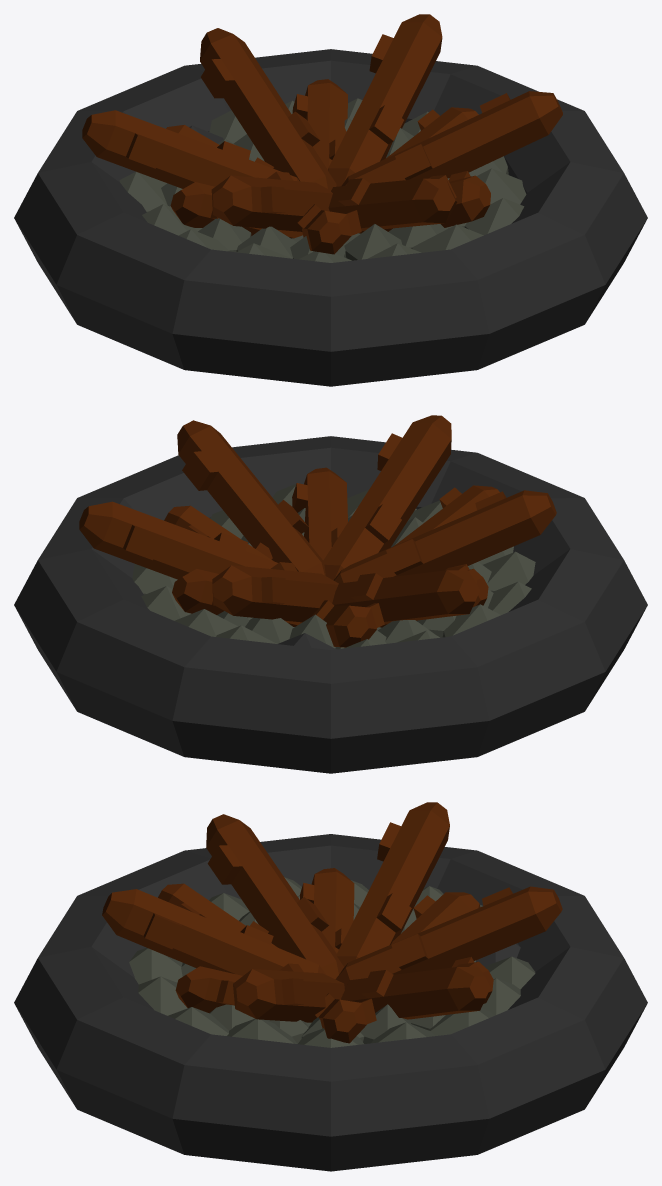
File: TestCCampFire.fbx
3 renders of one model, top to bottom at view 1: azimuth 30°, elevation 25°; view 2: azimuth 150°, elevation 25°; view 3: azimuth 270°, elevation 25°, orthographic.
Parts seen in each view (by area): view 1: RIng, wood.002, wood, wood.001, wood.005, wood.004, wood.003, wood.012, wood.006, wood.008, wood.007, wood.010 (+10 smaller); view 2: RIng, wood.004, wood, wood.003, wood.001, wood.005, wood.002, wood.007, wood.009, wood.006, wood.012, wood.010 (+9 smaller); view 3: RIng, wood.002, wood.004, wood.003, wood.005, wood.001, wood, wood.008, wood.007, wood.010, wood.009, wood.006 (+12 smaller).
Boxes of the visible parts, bbox=[...] form: RIng: bbox=[14, 49, 647, 386]; wood.002: bbox=[200, 28, 336, 190]; wood: bbox=[341, 91, 562, 186]; wood.001: bbox=[328, 14, 442, 186]; wood.005: bbox=[82, 110, 299, 188]; wood.004: bbox=[328, 175, 456, 230]; wood.003: bbox=[211, 171, 332, 231]; wood.012: bbox=[292, 79, 347, 169]; wood.006: bbox=[297, 204, 361, 254]; wood.008: bbox=[170, 182, 302, 238]; wood.007: bbox=[359, 171, 490, 233]; wood.010: bbox=[385, 107, 478, 158]; RIng: bbox=[14, 436, 647, 773]; wood.004: bbox=[322, 415, 451, 580]; wood: bbox=[177, 420, 325, 575]; wood.003: bbox=[333, 490, 556, 583]; wood.001: bbox=[79, 501, 277, 579]; wood.005: bbox=[332, 565, 479, 624]; wood.002: bbox=[212, 562, 338, 622]; wood.007: bbox=[292, 467, 347, 560]; wood.009: bbox=[311, 600, 384, 647]; wood.006: bbox=[394, 485, 499, 545]; wood.012: bbox=[172, 569, 301, 626]; wood.010: bbox=[164, 505, 272, 560]; RIng: bbox=[14, 834, 647, 1171]; wood.002: bbox=[335, 886, 562, 989]; wood.004: bbox=[102, 889, 325, 975]; wood.003: bbox=[206, 814, 343, 979]; wood.005: bbox=[336, 802, 449, 967]; wood.001: bbox=[341, 962, 490, 1019]; wood: bbox=[233, 963, 344, 1022]; wood.008: bbox=[299, 868, 354, 953]; wood.007: bbox=[175, 966, 242, 1012]; wood.010: bbox=[315, 993, 376, 1043]; wood.009: bbox=[391, 892, 480, 944]; wood.006: bbox=[158, 883, 277, 947].
Size of the model in its own units: 250 by 72.93 by 250.
